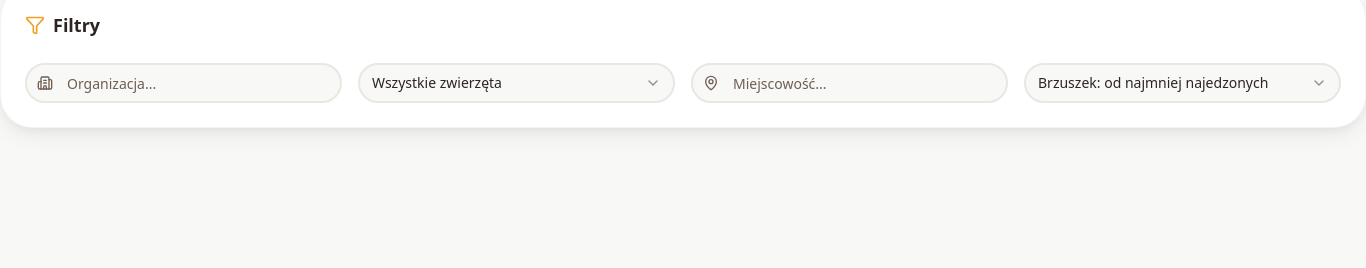
Test: AnimalFilters › Species Filter › should show species options when clicked
Click the dropdown "Wszystkie zwierzęta": (437, 82) [358,63,675,103]
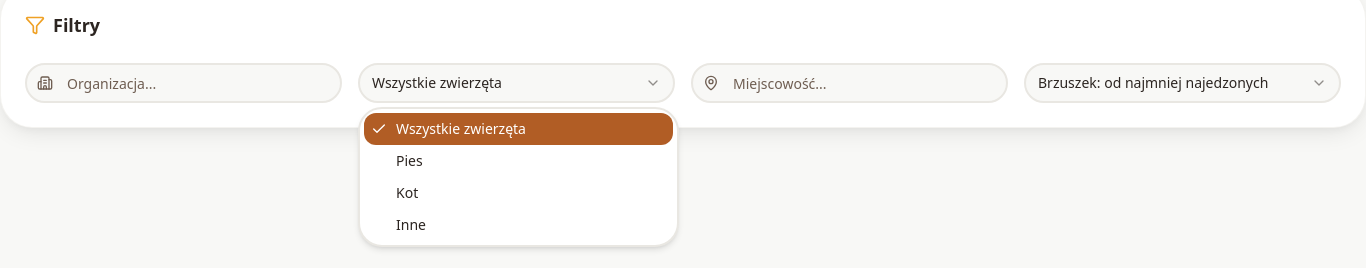
Check: the text "Pies" is shown, box [396,151,423,171]
Check: the text "Kot" is shown, box [396,183,418,203]
Check: the text "Inne" is shown, box [396,215,426,235]
